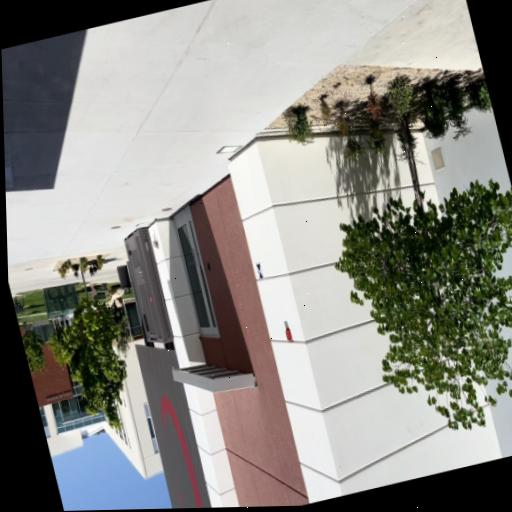target9: (255, 263, 264, 279)
